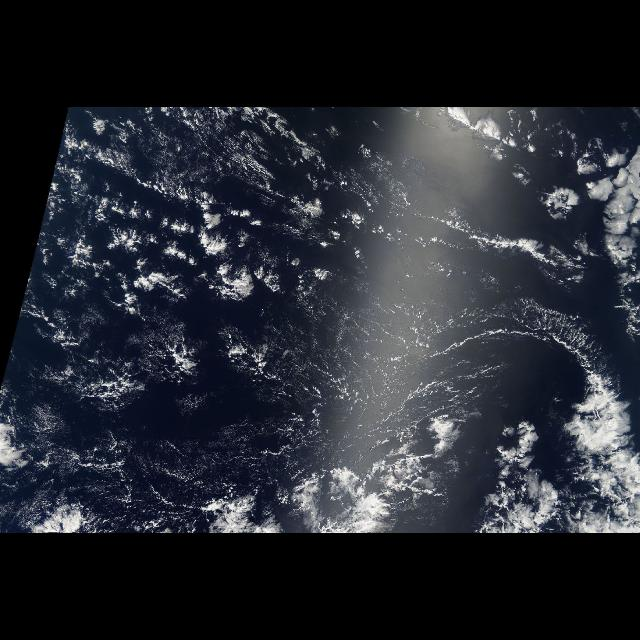Flower: (81, 179, 312, 335)
Sugar: (280, 293, 580, 445)
